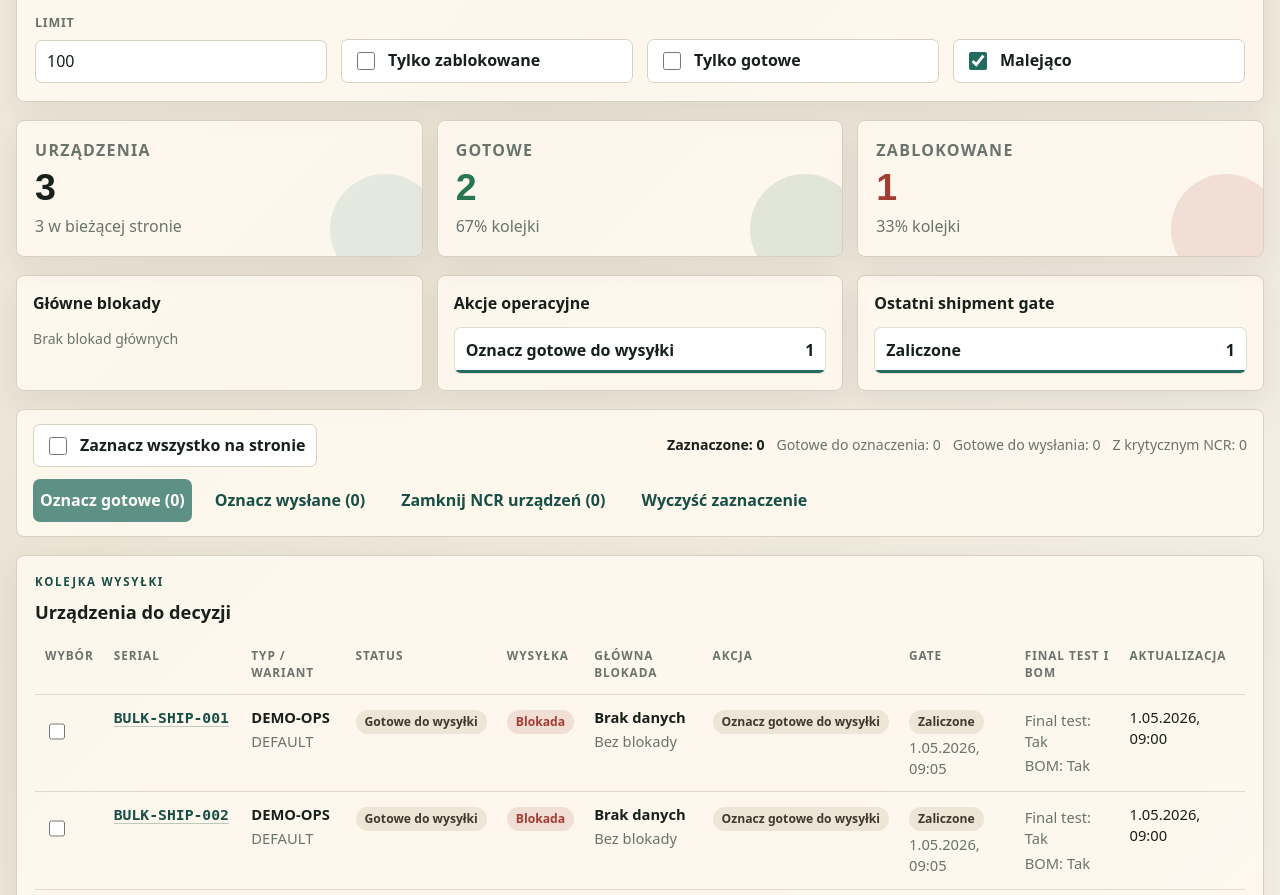
Test: App › marks selected ready shipment devices as shipped from bulk actions
(page scrolled)
Expected: the button "BULK-SHIP-001" is shown, [114, 706, 229, 728]
Click the checkbox named "Zaznacz wszystkie urządzenia w kolejce wysyłki na stronie".
click(58, 446)  # box [49, 437, 67, 455]
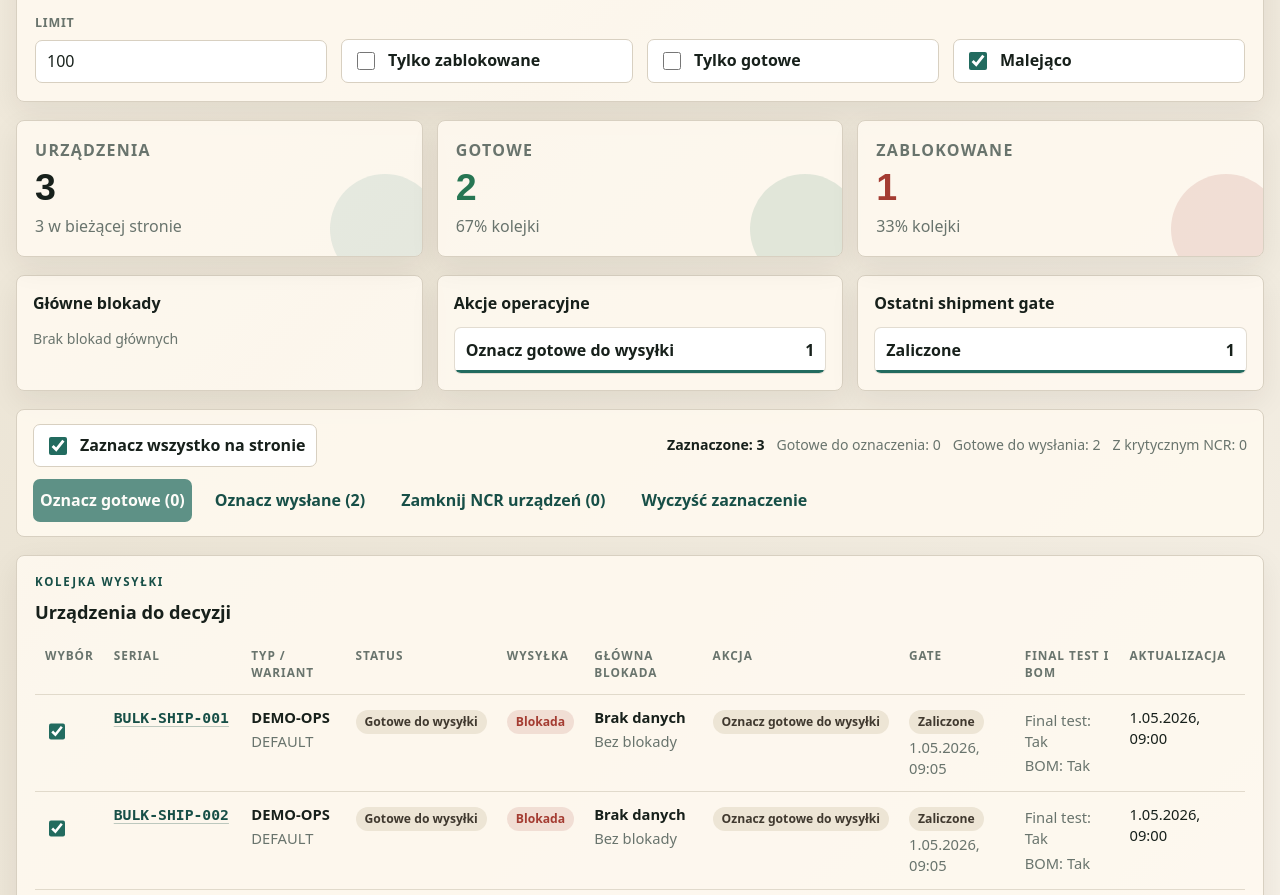
Expected: the text "Gotowe do wysłania: 2" is shown, [953, 435, 1100, 456]
Click the button "Oznacz wysłane (2)".
click(290, 501)  # box [202, 480, 378, 521]
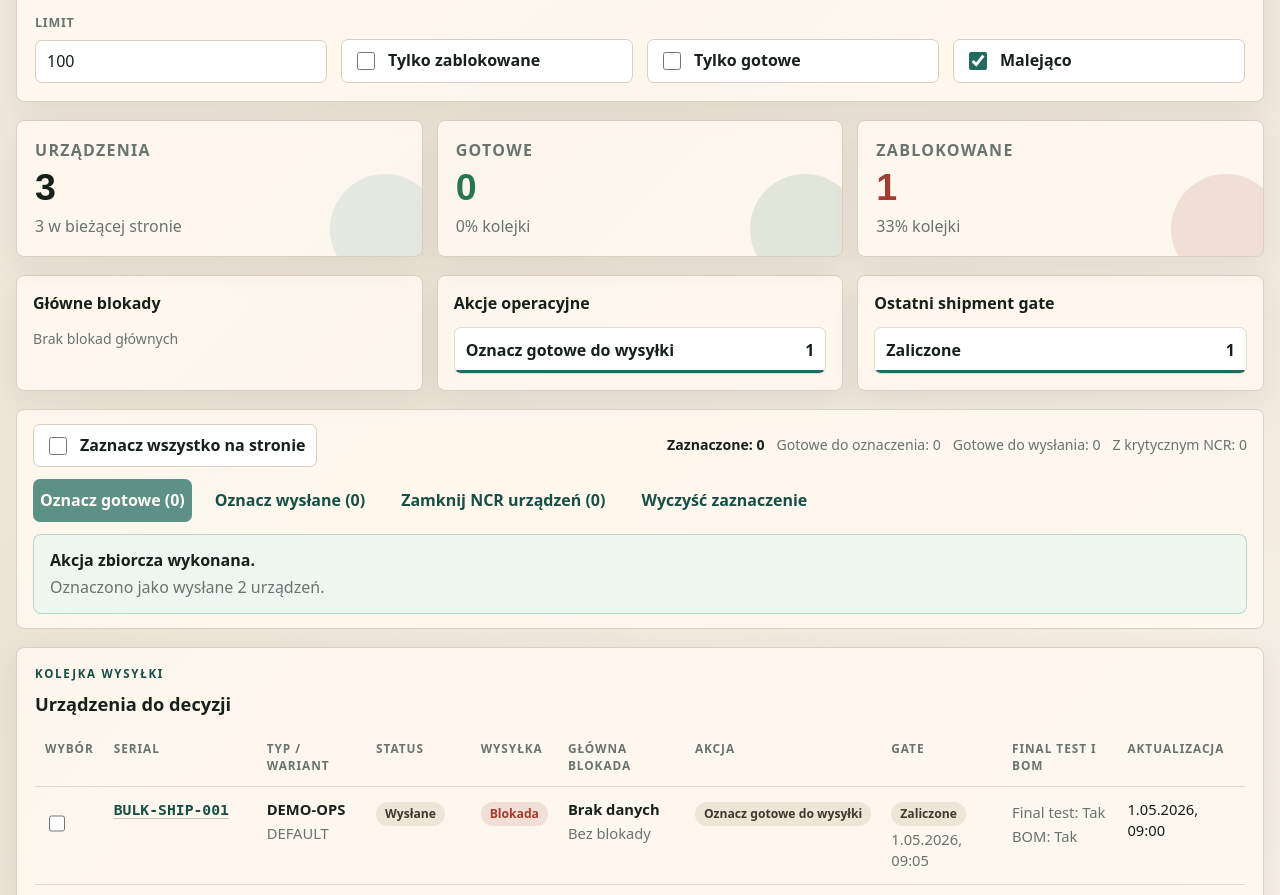
Expected: the text "Oznaczono jako wysłane 2 urządzeń." is shown, [50, 576, 324, 598]
